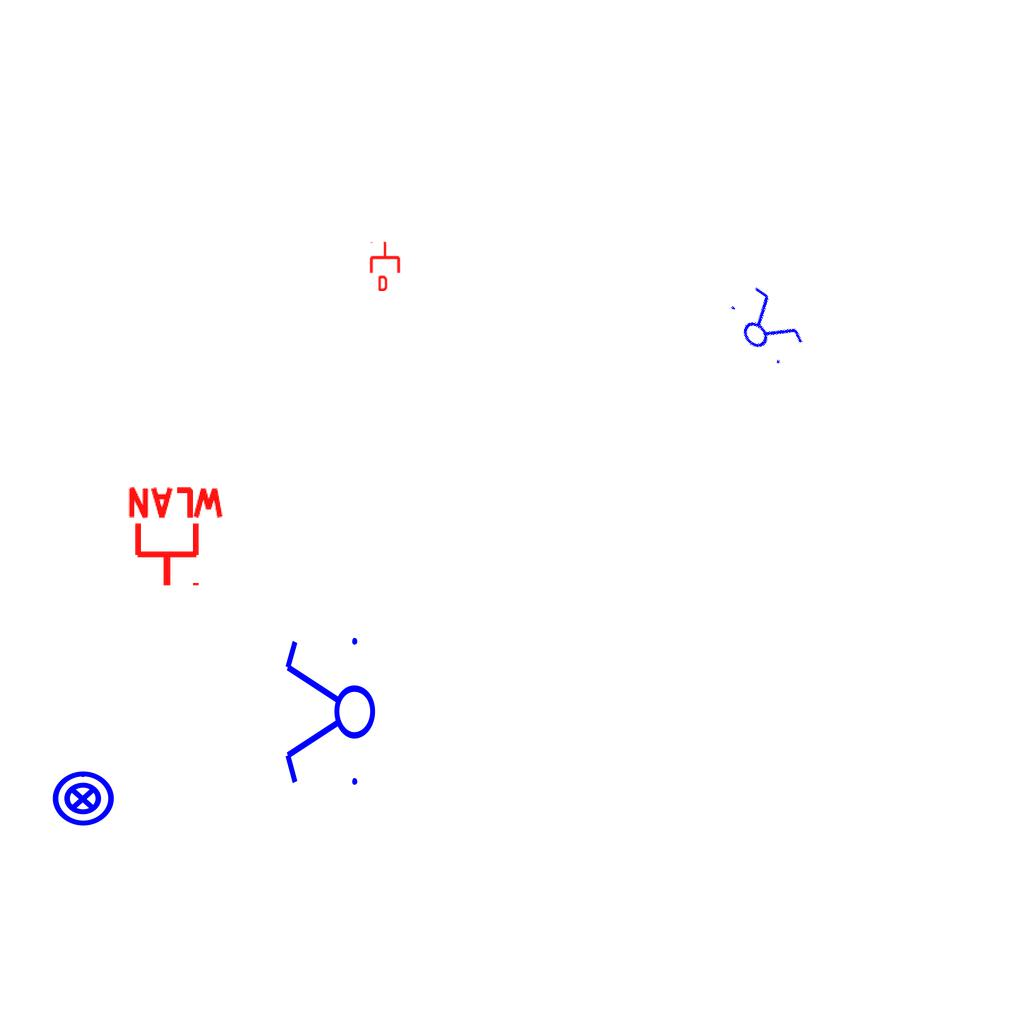Datenanschluss_einfach: (368, 241, 402, 291)
Serienschalter: (281, 629, 377, 797), (719, 278, 811, 374)
Taster_beleuchtet: (50, 766, 116, 832)
WLAN: (124, 485, 228, 590)
